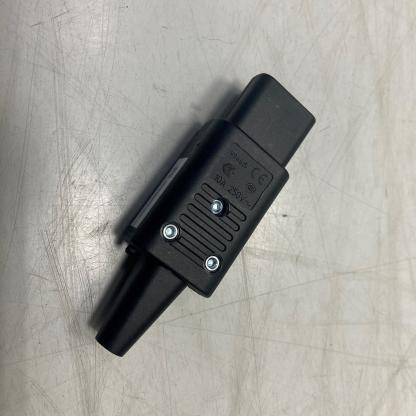SP0000006: (67, 6, 343, 391)
